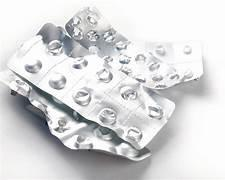pill_Strip: (9, 8, 202, 148), (9, 52, 174, 148), (0, 70, 150, 160), (37, 58, 166, 148), (38, 59, 166, 148), (65, 7, 202, 88), (65, 7, 176, 88), (63, 77, 174, 148), (90, 81, 174, 148), (7, 23, 89, 83), (109, 42, 202, 88), (65, 7, 129, 56), (108, 44, 178, 88), (145, 41, 202, 81), (37, 23, 88, 56), (16, 36, 41, 56)
